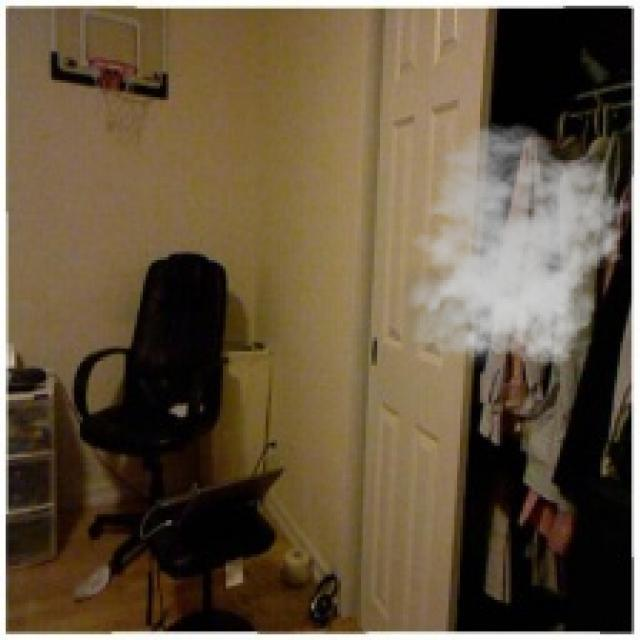Smoke: (394, 123, 632, 374)
